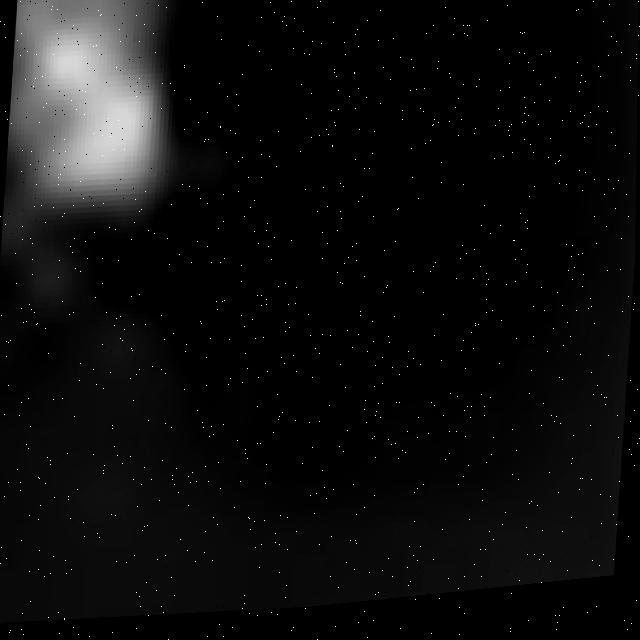person: (1, 1, 186, 340)
